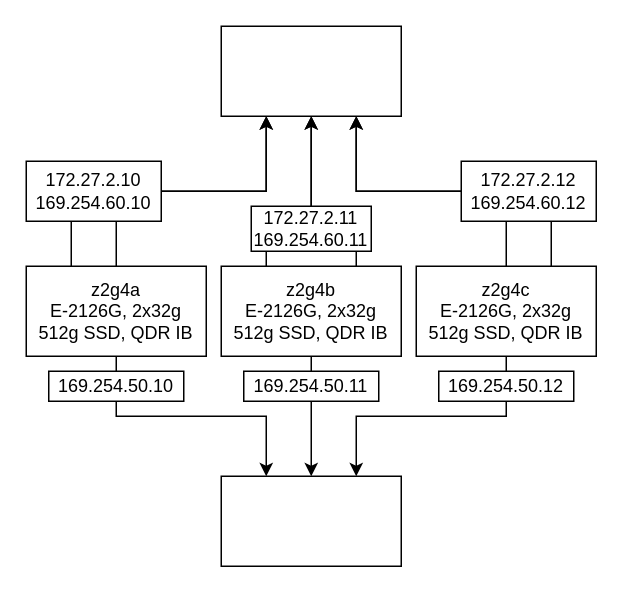
Some shapes in this 623 by 593 pixel diagram are drawn without their labels. Each missing label, with the centre of its shape:
"Ethernet C3850" belongs at [310,70].
"storage - IB fabric SX6036" belongs at [310,520].
